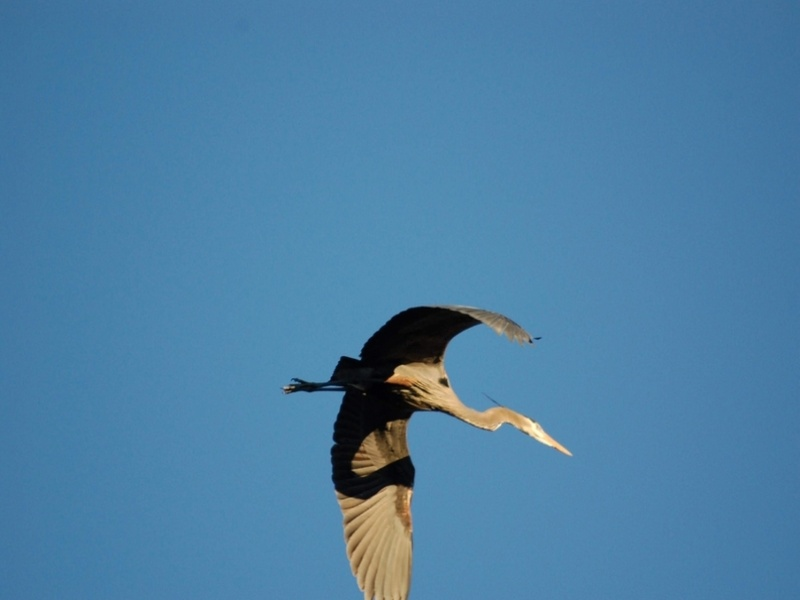heron: (278, 296, 574, 600)
